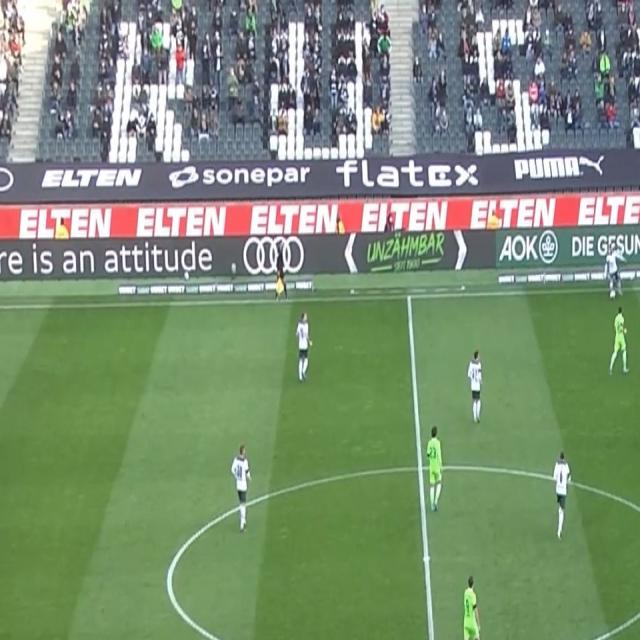ball: (609, 288, 617, 300)
